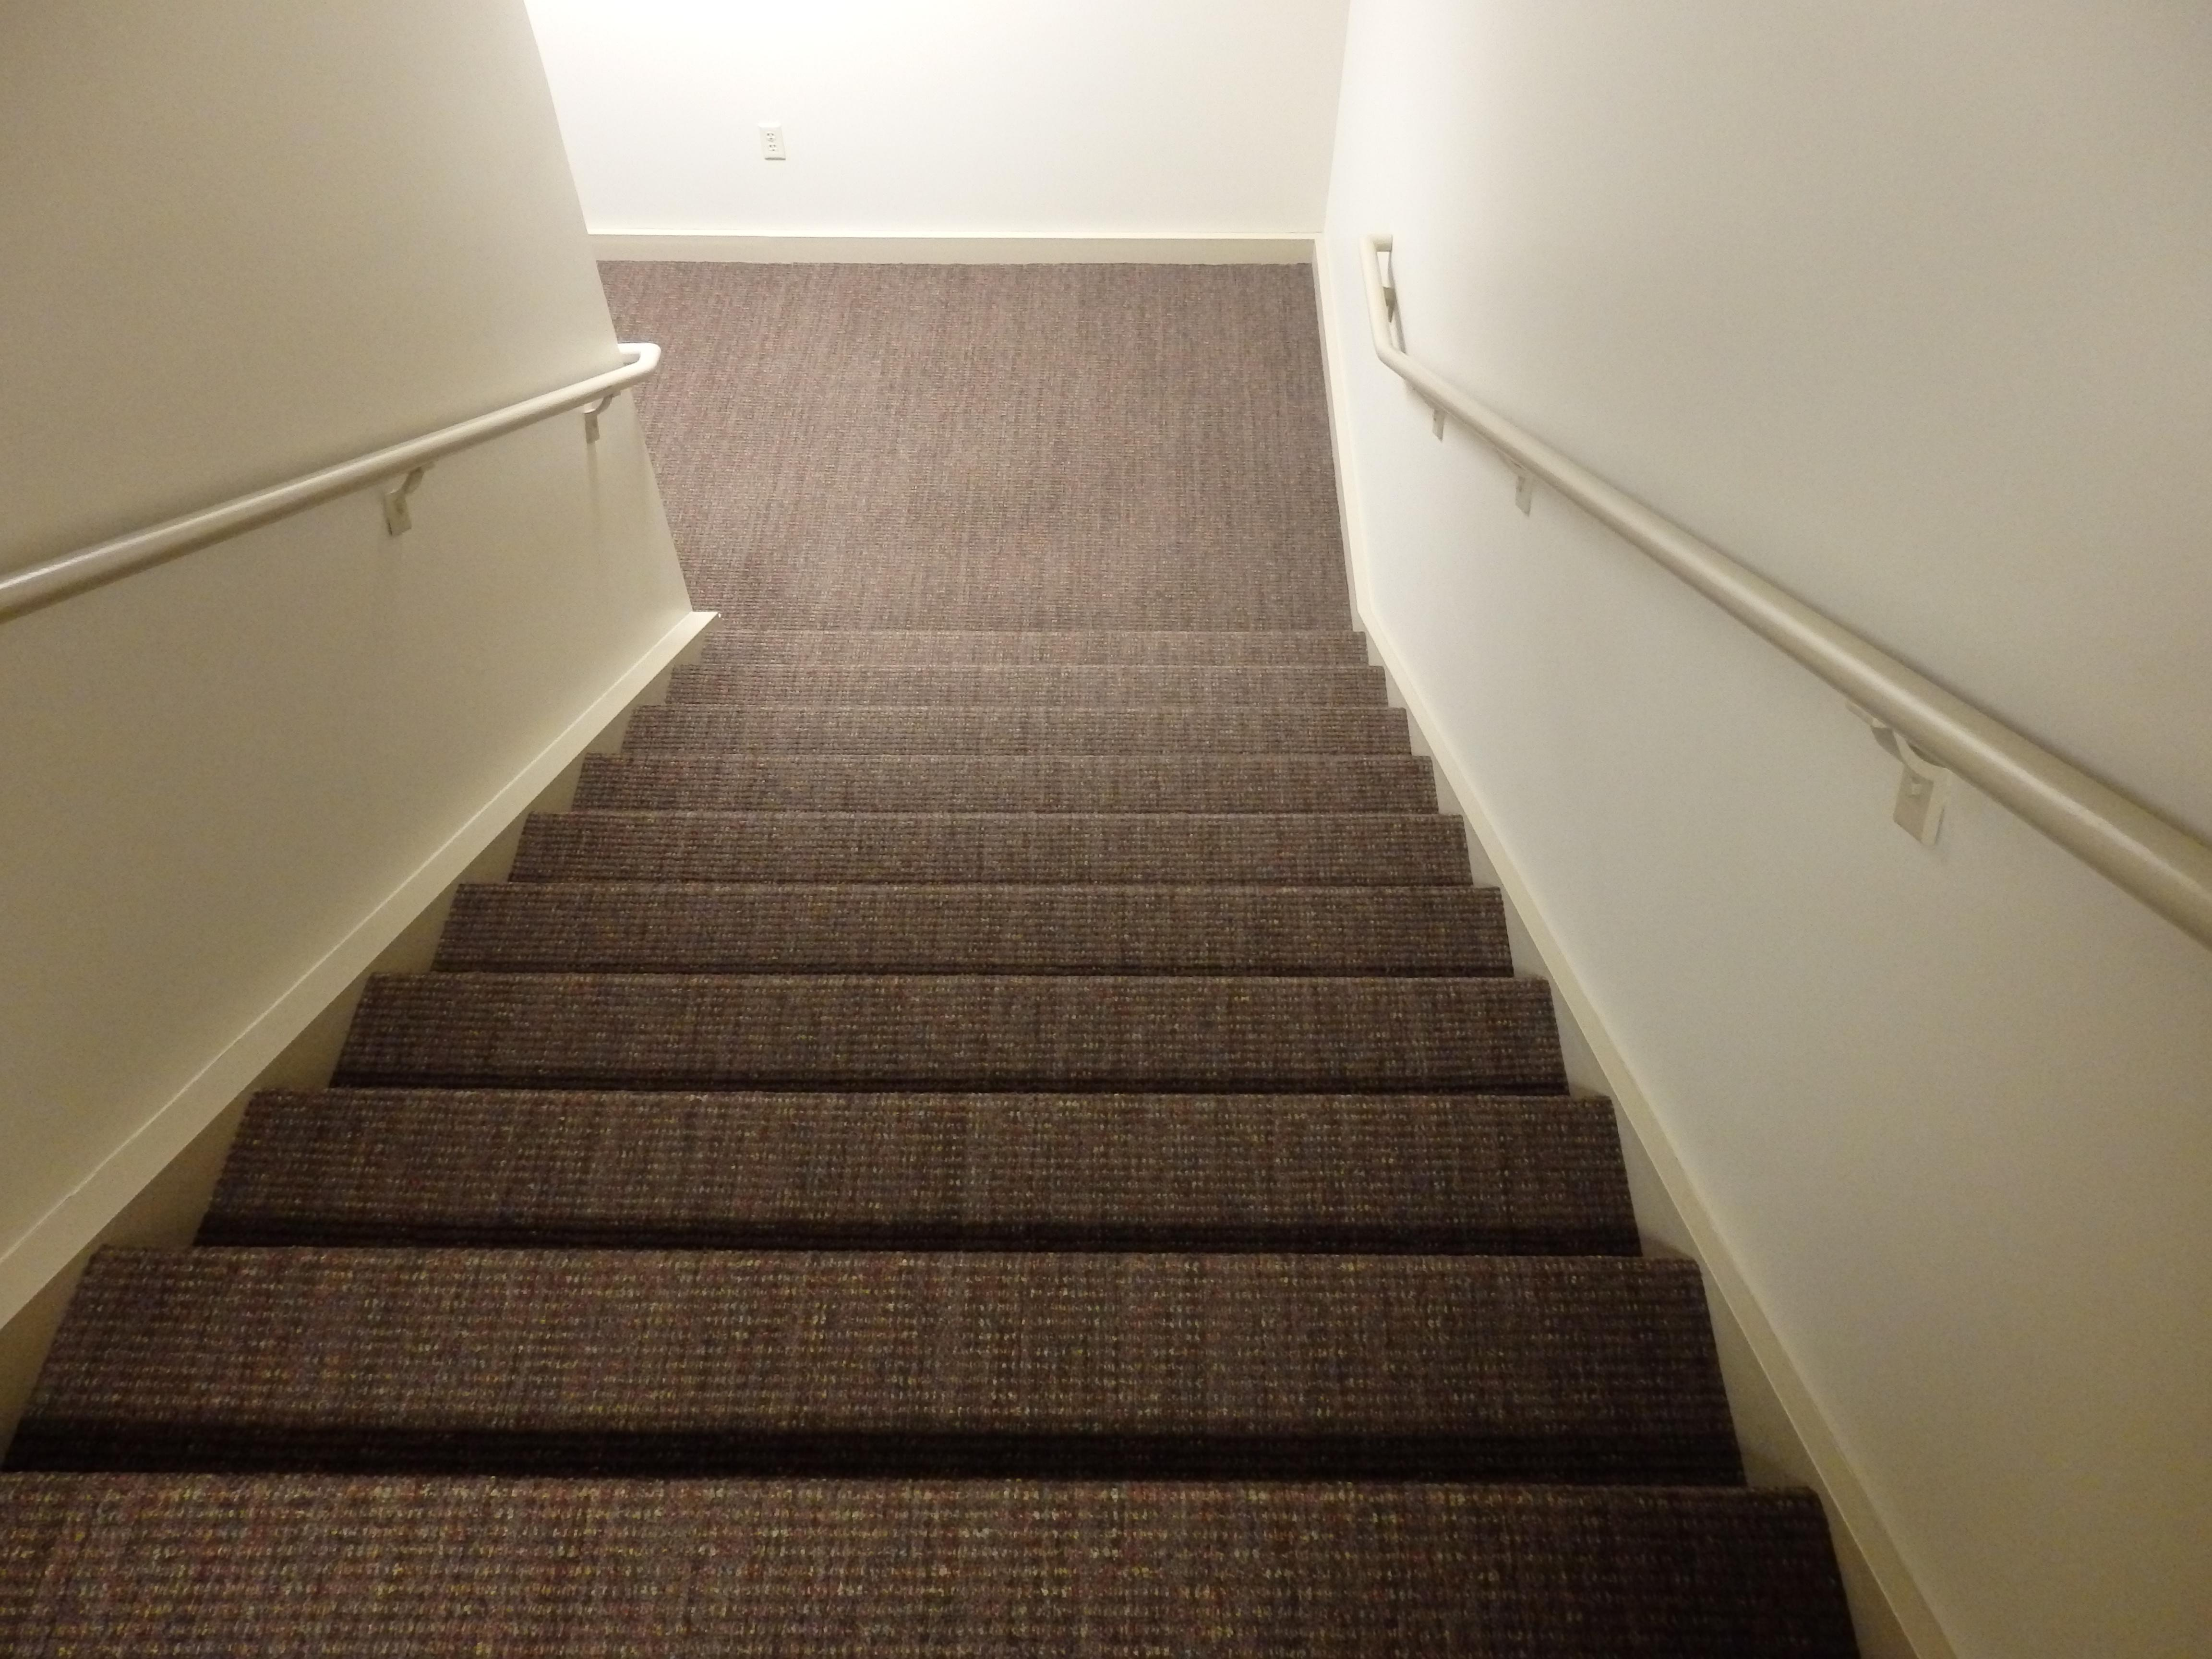stairs_down: (117, 532, 1737, 1547)
